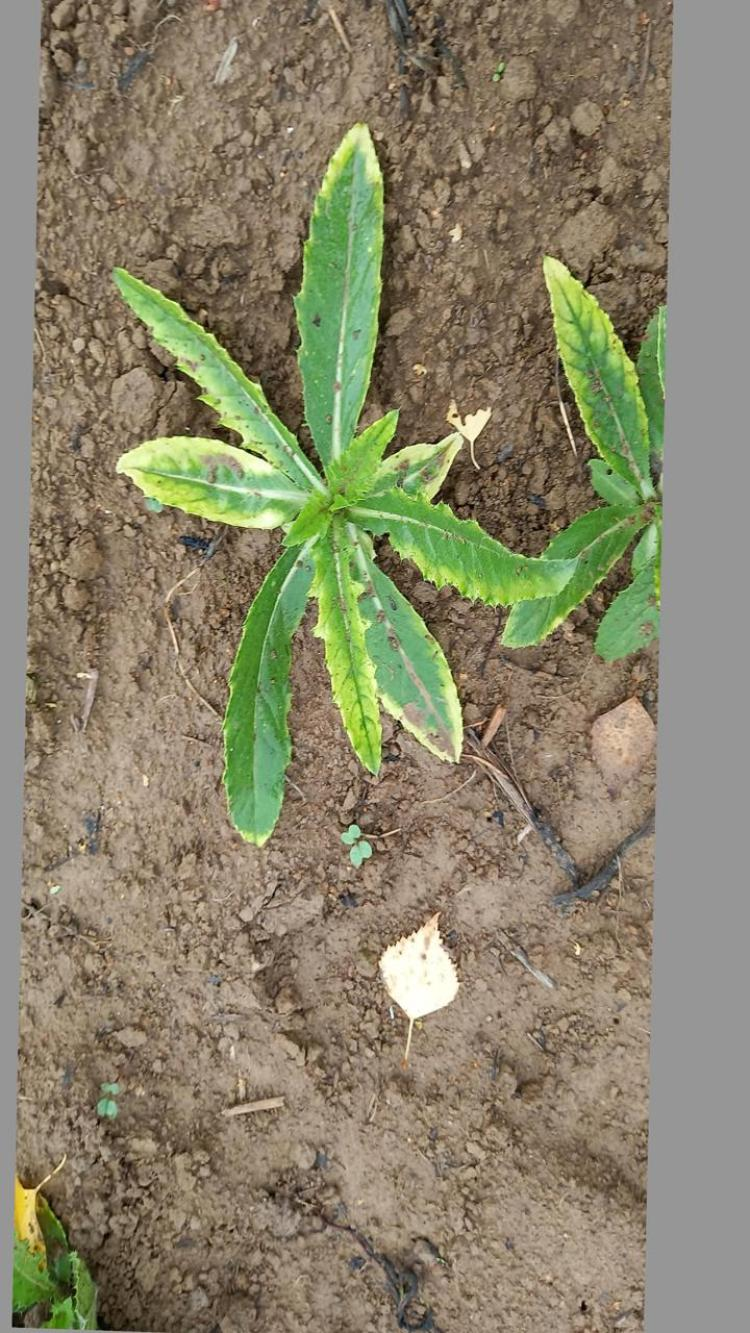bodyak: (117, 119, 581, 833)
